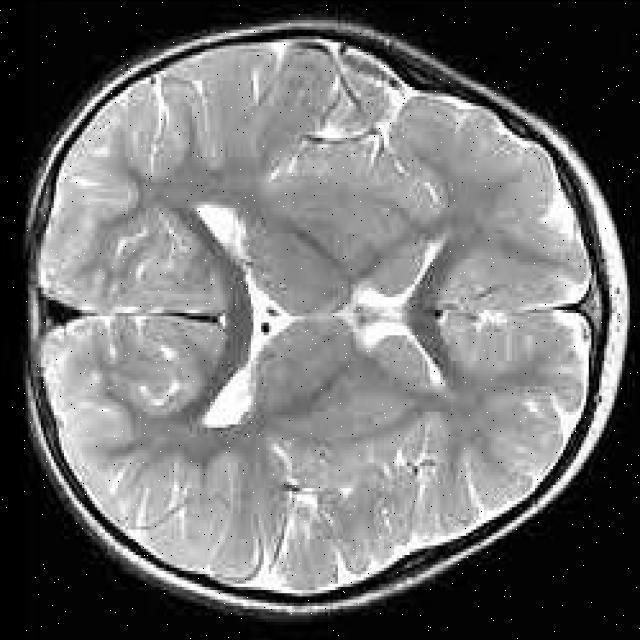No_Tumor: (26, 20, 627, 614)
